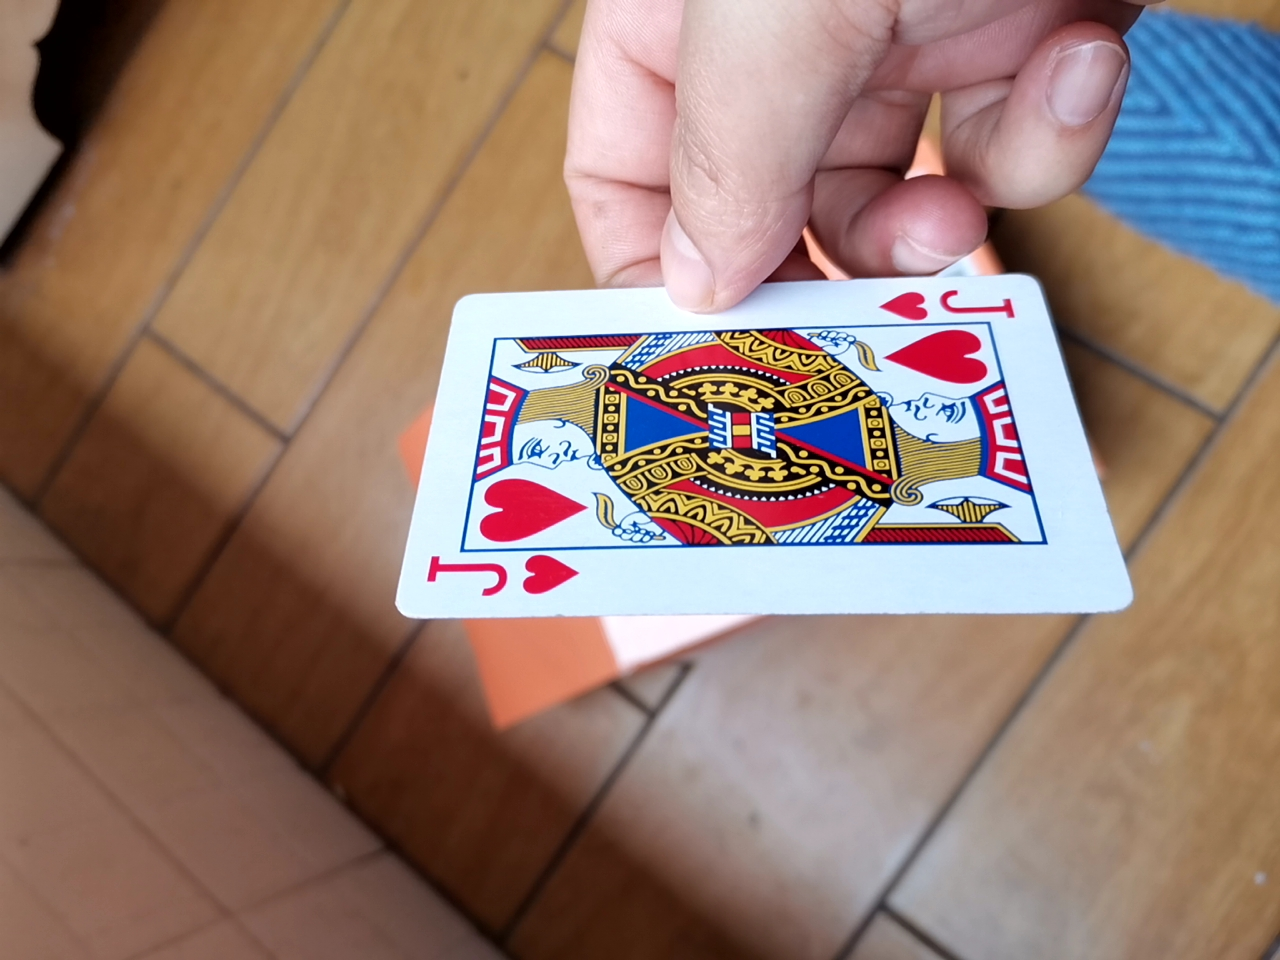hx j: (376, 257, 1151, 651)
